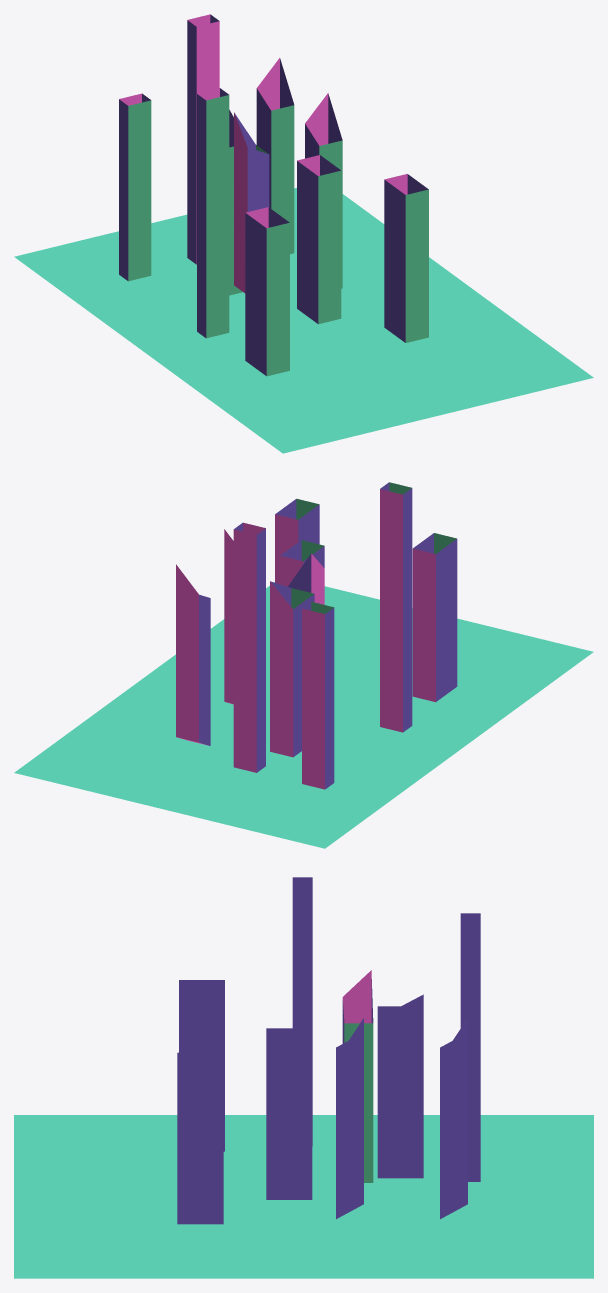
The model's file is buildingAttempt01.glb.
3 views of the same model, one above another, from view 1: azimuth 30°, elevation 25°; view 2: azimuth 150°, elevation 25°; view 3: azimuth 270°, elevation 25° (orthographic). The views are drawn at different scales.
Visible parts, largest first — view 1: Plane, Cube.002, Cube.009, Cube.004, Cube.003, Cube.007, Cube.001, Cube.008, Cube.006, Cube.005, Cube; view 2: Plane, Cube.002, Cube.008, Cube.009, Cube.007, Cube, Cube.001, Cube.003, Cube.005, Cube.004, Cube.006; view 3: Plane, Cube, Cube.003, Cube.004, Cube.001, Cube.005, Cube.008, Cube.009, Cube.002, Cube.006.
Boxes of the visible parts, x1,y1,x2,y2 form: Plane: (14,188,593,453); Cube.002: (197,88,229,338); Cube.009: (245,207,289,376); Cube.004: (297,155,341,324); Cube.003: (384,174,428,342); Cube.007: (119,93,151,281); Cube.001: (256,58,294,253); Cube.008: (187,14,219,264); Cube.006: (234,112,269,293); Cube.005: (305,93,342,288); Cube: (229,110,242,295); Plane: (14,582,593,848); Cube.002: (380,482,412,732); Cube.008: (233,522,265,772); Cube.009: (412,533,457,702); Cube.007: (302,601,334,789); Cube: (270,581,314,757); Cube.001: (176,564,210,745); Cube.003: (275,498,319,584); Cube.005: (224,529,233,704); Cube.004: (280,540,324,586); Cube.006: (288,553,324,604); Plane: (14,1115,593,1278); Cube: (377,994,423,1178); Cube.003: (177,1052,223,1224); Cube.004: (266,1028,312,1199); Cube.001: (440,1018,467,1219); Cube.005: (336,1018,363,1219); Cube.008: (460,913,480,1181); Cube.009: (179,980,224,1151); Cube.002: (292,877,312,1145); Cube.006: (342,970,373,1182).
Size of what is drawn, in the model's own units: 2 by 1.51 by 3.
